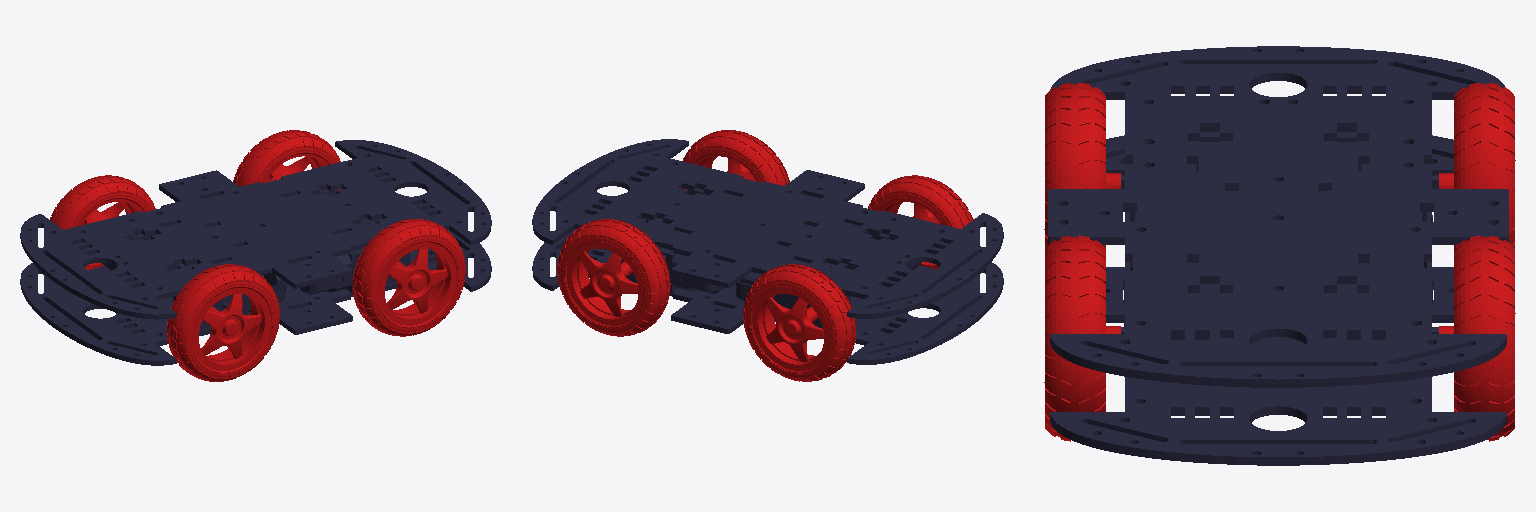
robot.urdf — robot2wheel:
<?xml version="1.0"?>

<robot name="robot2wheel">
    <material name="blue">
        <color rgba="0.2 0.2 0.3 1.0"/>
    </material>

    <material name="red">
        <color rgba="0.8 0.12 0.13 1.0"/>
    </material>

    <gazebo>
        <plugin filename="libgazebo_ros_diff_drive.so" name="differential_drive_controller">
            <legacyMode>false</legacyMode>
            <alwaysOn>true</alwaysOn>
            <updateRate>20</updateRate>
            <leftJoint>joint_left_wheel</leftJoint>
            <rightJoint>joint_right_wheel</rightJoint>
            <wheelSeparation>0.3</wheelSeparation>
            <wheelDiameter>0.2</wheelDiameter>
            <torque>0.1</torque>
            <commandTopic>cmd_vel</commandTopic>
            <odometryTopic>odom</odometryTopic>
            <odometryFrame>odom</odometryFrame>
            <robotBaseFrame>link_chassis</robotBaseFrame>
        </plugin>
    </gazebo>

    <!-- Chassis -->
    <link name="link_chassis">
        <pose>0 0 0.1 0 0 0</pose>
        <inertial>
            <mass value="5"/>
            <origin rpy="0 0 0" xyz="0 0 0.1"/>
            <inertia ixx="0.03954" ixy="0" ixz="0" iyy="0.10628" iyz="0" izz="0.1062"/>
        </inertial>

        <!-- Body -->
        <collision name="collision_chassis">
            <geometry>
                <box size="0.78 0.3 0.085"/>
            </geometry>
        </collision>
        <visual>
            <origin rpy="0 0 1.5707" xyz="0 0.56 -0.05"/>
            <geometry>
                <mesh
                    filename="package://robot2wheel/meshes/chassis.stl"
                    scale="0.003 0.003 0.003"
                />
            </geometry>
            <material name="blue"/>
        </visual>
    </link>

    <!-- Right Front Wheel -->
    <link name="link_front_right_wheel">
        <inertial>
            <mass value="0.2"/>
            <origin rpy="0 1.5707 1.5707" xyz="0 0 0"/>
            <inertia ixx="0.000526" ixy="0" ixz="0" iyy="0.000526" iyz="0" izz="0.001"/>
        </inertial>
        <collision name="link_front_right_wheel_collision">
            <origin rpy="0 1.5707 1.5707" xyz="0 0.03 0"/>
            <geometry>
                <cylinder length="0.045" radius="0.1"/>
            </geometry>
        </collision>
        <visual name="link_front_right_wheel_visual">
            <origin rpy="0 0 1.5707" xyz="0 0 0"/>
            <geometry>
                <mesh
                    filename="package://robot2wheel/meshes/wheel.stl"
                    scale="0.003 0.003 0.003"
                />
            </geometry>
            <material name="red"/>
        </visual>
    </link>

    <!-- Chassis / Right Wheel Joint -->
    <joint name="joint_front_right_wheel" type="continuous">
        <origin rpy="0 0 0" xyz="0.177 0.17 -0.01"/>
        <parent link="link_chassis"/>
        <child link="link_front_right_wheel"/>
        <axis rpy="0 0 0" xyz="0 1 0"/>
        <limit effort="10000" velocity="1000"/>
        <joint_properties damping="1.0" friction="1.0"/>
    </joint>

    <!-- Left Front Wheel -->
    <link name="link_front_left_wheel">
        <inertial>
            <mass value="0.2"/>
            <origin rpy="0 1.5707 1.5707" xyz="0 0 0"/>
            <inertia ixx="0.000526" ixy="0" ixz="0" iyy="0.000526" iyz="0" izz="0.001"/>
        </inertial>
        <collision name="link_front_left_wheel_collision">
            <origin rpy="0 1.5707 1.5707" xyz="0 -0.03 0"/>
            <geometry>
                <cylinder length="0.045" radius="0.1"/>
            </geometry>
        </collision>
        <visual name="link_front_left_wheel_visual">
            <origin rpy="0 0 -1.5707" xyz="0 0 0"/>
            <geometry>
                <mesh
                    filename="package://robot2wheel/meshes/wheel.stl"
                    scale="0.003 0.003 0.003"
                />
            </geometry>
            <material name="red"/>
        </visual>
    </link>

    <!-- Chassis / Left Wheel Joint -->
    <joint name="joint_front_left_wheel" type="continuous">
        <origin rpy="0 0 0" xyz="0.177 -0.17 -0.01"/>
        <parent link="link_chassis"/>
        <child link="link_front_left_wheel"/>
        <axis rpy="0 0 0" xyz="0 1 0"/>
        <limit effort="10000" velocity="1000"/>
        <joint_properties damping="1.0" friction="1.0"/>
    </joint>

    <!-- Right Back Wheel -->
    <link name="link_back_right_wheel">
        <inertial>
            <mass value="0.2"/>
            <origin rpy="0 1.5707 1.5707" xyz="0 0 0"/>
            <inertia ixx="0.000526" ixy="0" ixz="0" iyy="0.000526" iyz="0" izz="0.001"/>
        </inertial>
        <collision name="link_back_right_wheel_collision">
            <origin rpy="0 1.5707 1.5707" xyz="0 0.03 0"/>
            <geometry>
                <cylinder length="0.045" radius="0.1"/>
            </geometry>
        </collision>
        <visual name="link_back_right_wheel_visual">
            <origin rpy="0 0 1.5707" xyz="0 0 0"/>
            <geometry>
                <mesh
                    filename="package://robot2wheel/meshes/wheel.stl"
                    scale="0.003 0.003 0.003"
                />
            </geometry>
            <material name="red"/>
        </visual>
    </link>

    <!-- Chassis / Right Back Wheel Joint -->
    <joint name="joint_back_right_wheel" type="continuous">
        <origin rpy="0 0 0" xyz="-0.177 0.17 -0.01"/>
        <parent link="link_chassis"/>
        <child link="link_back_right_wheel"/>
        <axis rpy="0 0 0" xyz="0 1 0"/>
        <limit effort="10000" velocity="1000"/>
        <joint_properties damping="1.0" friction="1.0"/>
    </joint>

    <!-- Left Back Wheel -->
    <link name="link_back_left_wheel">
        <inertial>
            <mass value="0.2"/>
            <origin rpy="0 1.5707 1.5707" xyz="0 0 0"/>
            <inertia ixx="0.000526" ixy="0" ixz="0" iyy="0.000526" iyz="0" izz="0.001"/>
        </inertial>
        <collision name="link_back_left_wheel_collision">
            <origin rpy="0 1.5707 1.5707" xyz="0 -0.03 0"/>
            <geometry>
                <cylinder length="0.045" radius="0.1"/>
            </geometry>
        </collision>
        <visual name="link_back_left_wheel_visual">
            <origin rpy="0 0 -1.5707" xyz="0 0 0"/>
            <geometry>
                <mesh
                    filename="package://robot2wheel/meshes/wheel.stl"
                    scale="0.003 0.003 0.003"
                />
            </geometry>
            <material name="red"/>
        </visual>
    </link>

    <!-- Chassis / Left Back Wheel Joint -->
    <joint name="joint_back_left_wheel" type="continuous">
        <origin rpy="0 0 0" xyz="-0.177 -0.17 -0.01"/>
        <parent link="link_chassis"/>
        <child link="link_back_left_wheel"/>
        <axis rpy="0 0 0" xyz="0 1 0"/>
        <limit effort="10000" velocity="1000"/>
        <joint_properties damping="1.0" friction="1.0"/>
    </joint>
</robot>

--- Facts derived from the render (not from the file) ---
3 views of the same robot in one strip: view 1: azimuth 30°, elevation 25°; view 2: azimuth 150°, elevation 25°; view 3: azimuth 270°, elevation 25° (orthographic).
Robot: robot2wheel — 5 links, 4 joints (4 continuous); root link link_chassis; default pose: all joints at 0.
Visible links, largest first — view 1: link_chassis, link_front_left_wheel, link_back_left_wheel, link_front_right_wheel, link_back_right_wheel; view 2: link_chassis, link_front_right_wheel, link_back_right_wheel, link_front_left_wheel, link_back_left_wheel; view 3: link_chassis, link_front_right_wheel, link_front_left_wheel, link_back_right_wheel, link_back_left_wheel.
Link boxes in pixels (left/top/right/bottom): link_chassis: left=20, top=140, right=491, bottom=365; link_front_left_wheel: left=353, top=219, right=465, bottom=336; link_back_left_wheel: left=167, top=264, right=279, bottom=381; link_front_right_wheel: left=233, top=130, right=341, bottom=190; link_back_right_wheel: left=50, top=175, right=155, bottom=269; link_chassis: left=532, top=139, right=1003, bottom=364; link_front_right_wheel: left=557, top=219, right=670, bottom=336; link_back_right_wheel: left=743, top=264, right=855, bottom=381; link_front_left_wheel: left=682, top=130, right=789, bottom=189; link_back_left_wheel: left=868, top=175, right=973, bottom=268; link_chassis: left=1048, top=46, right=1508, bottom=465; link_front_right_wheel: left=1439, top=235, right=1515, bottom=441; link_front_left_wheel: left=1044, top=235, right=1120, bottom=441; link_back_right_wheel: left=1439, top=82, right=1515, bottom=248; link_back_left_wheel: left=1044, top=82, right=1120, bottom=248.
Bounding box of the posed robot: 0.771 × 0.4605 × 0.2017 m (x, y, z).
Meshes: 2 distinct files referenced, 5 mesh visuals loaded (1 binary STL, 1 ASCII STL).